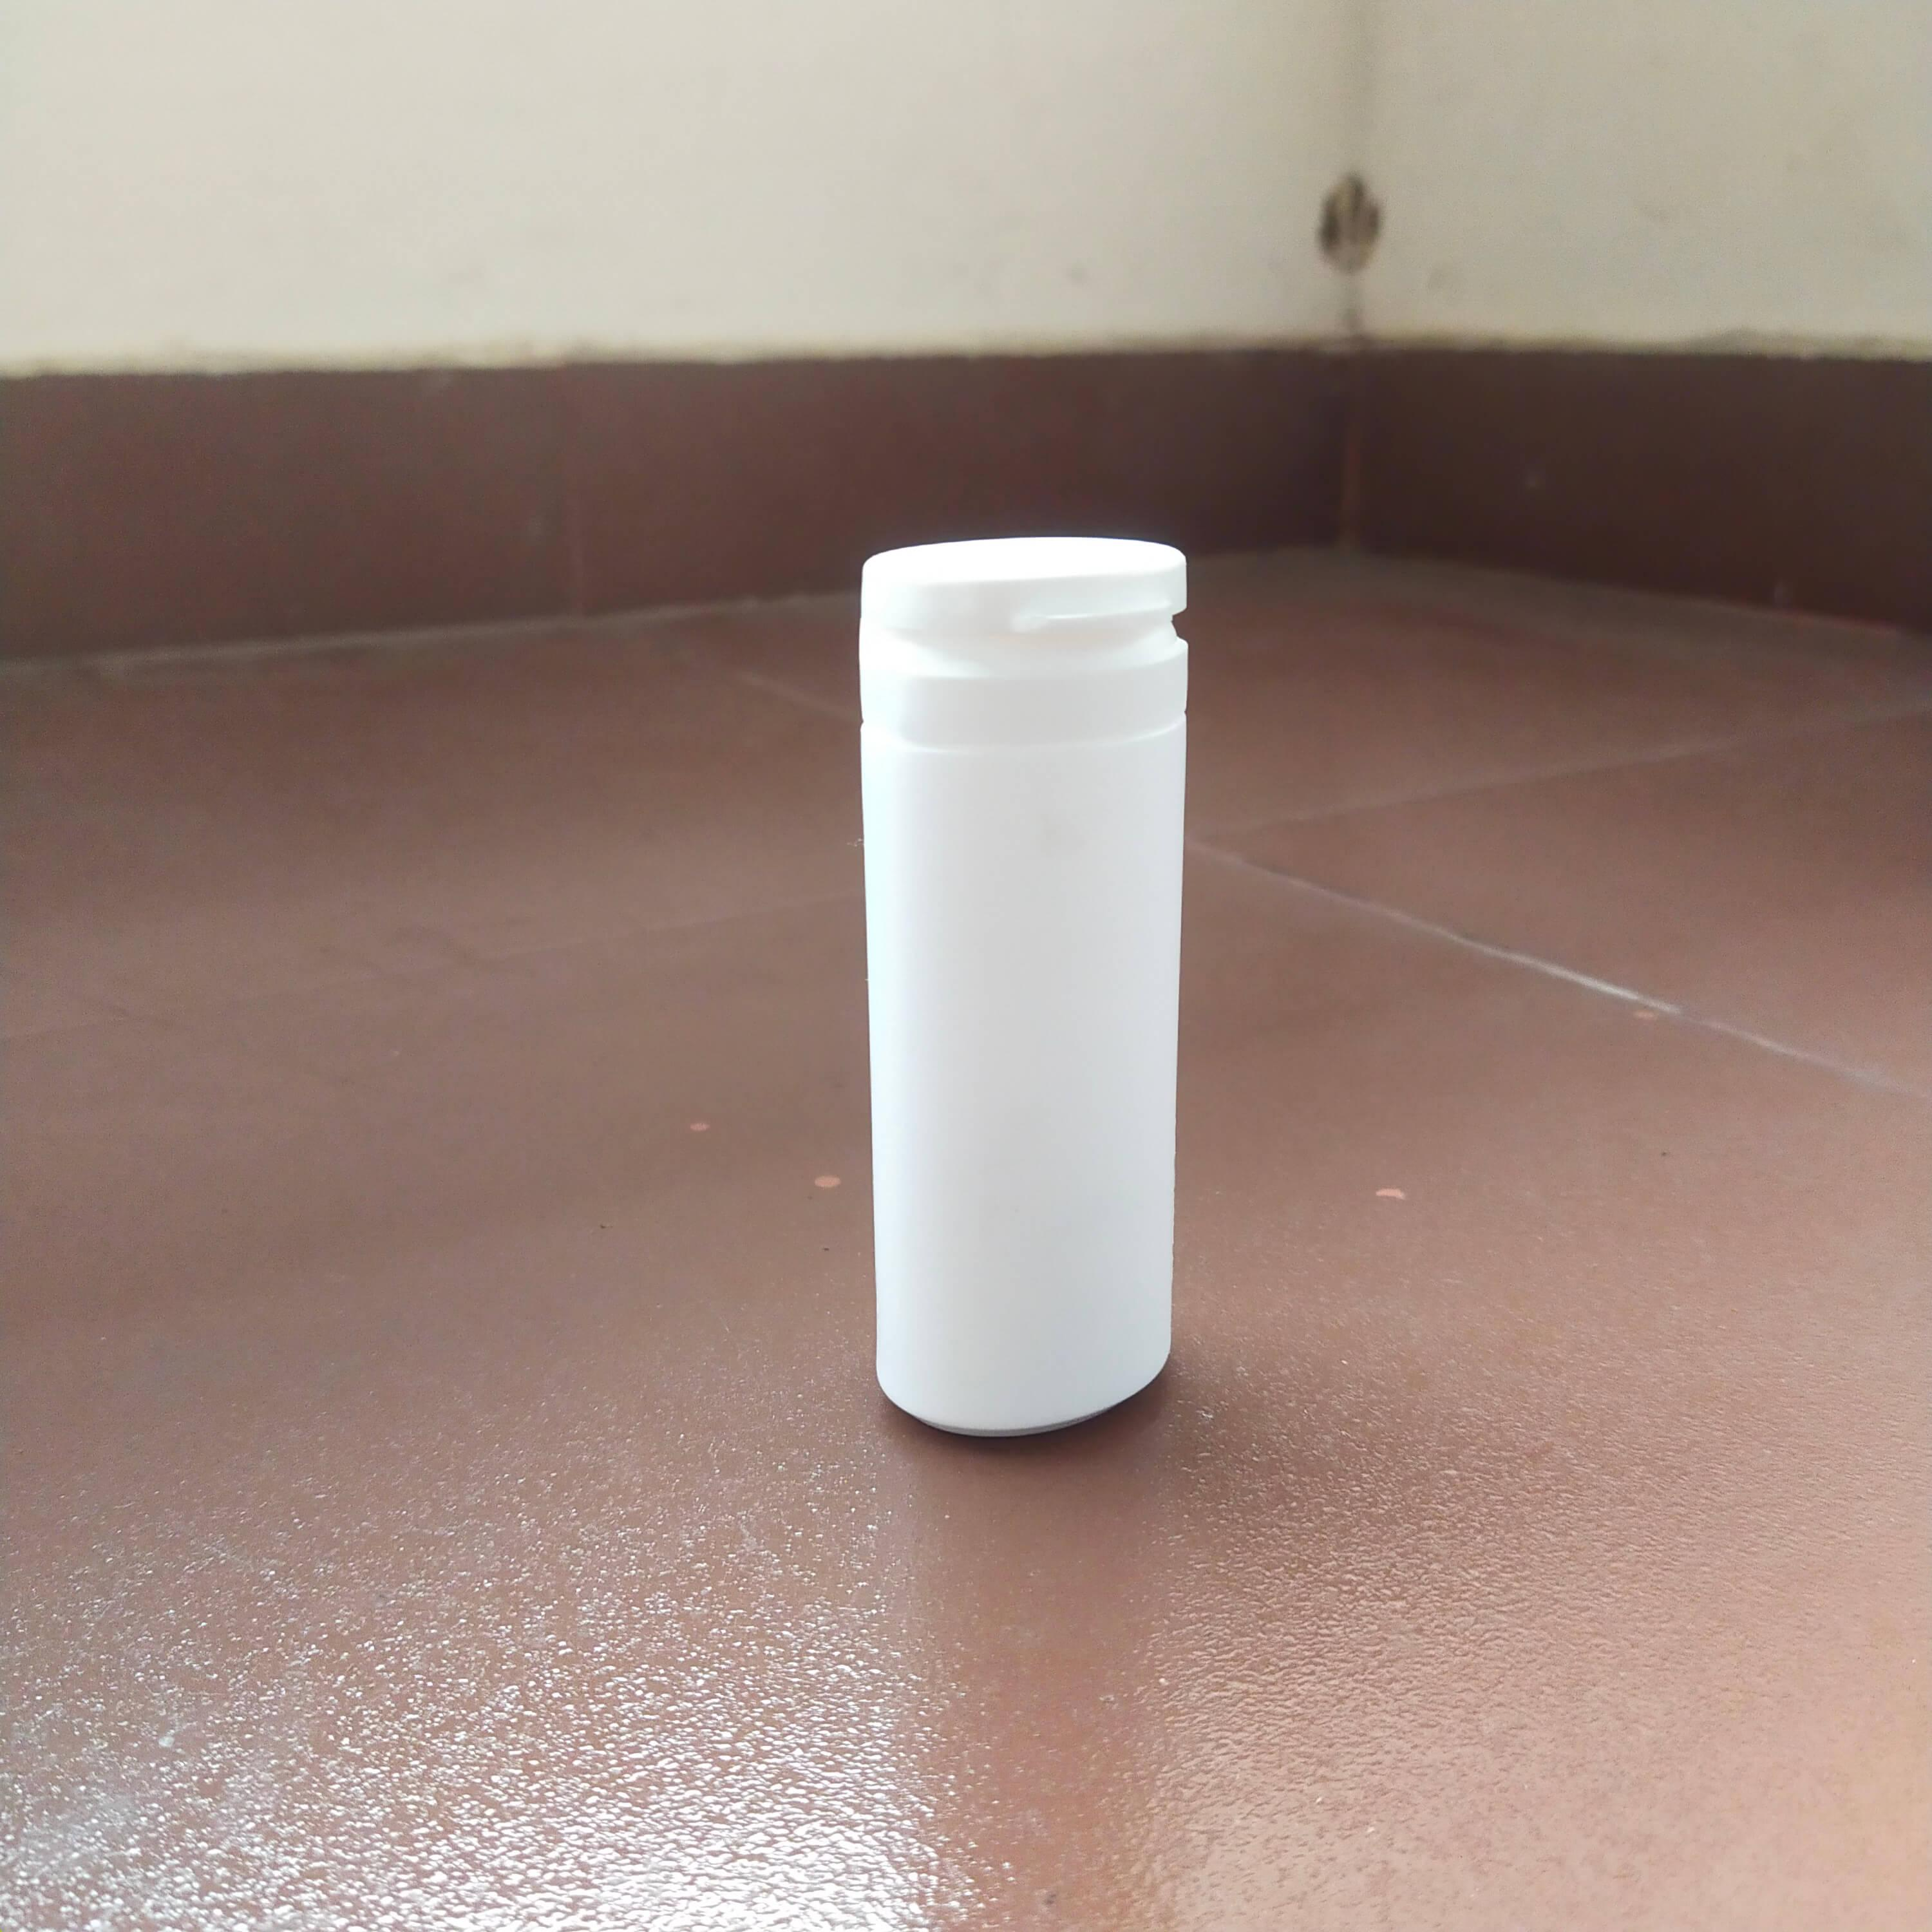plastic box: (840, 518, 1247, 1488)
